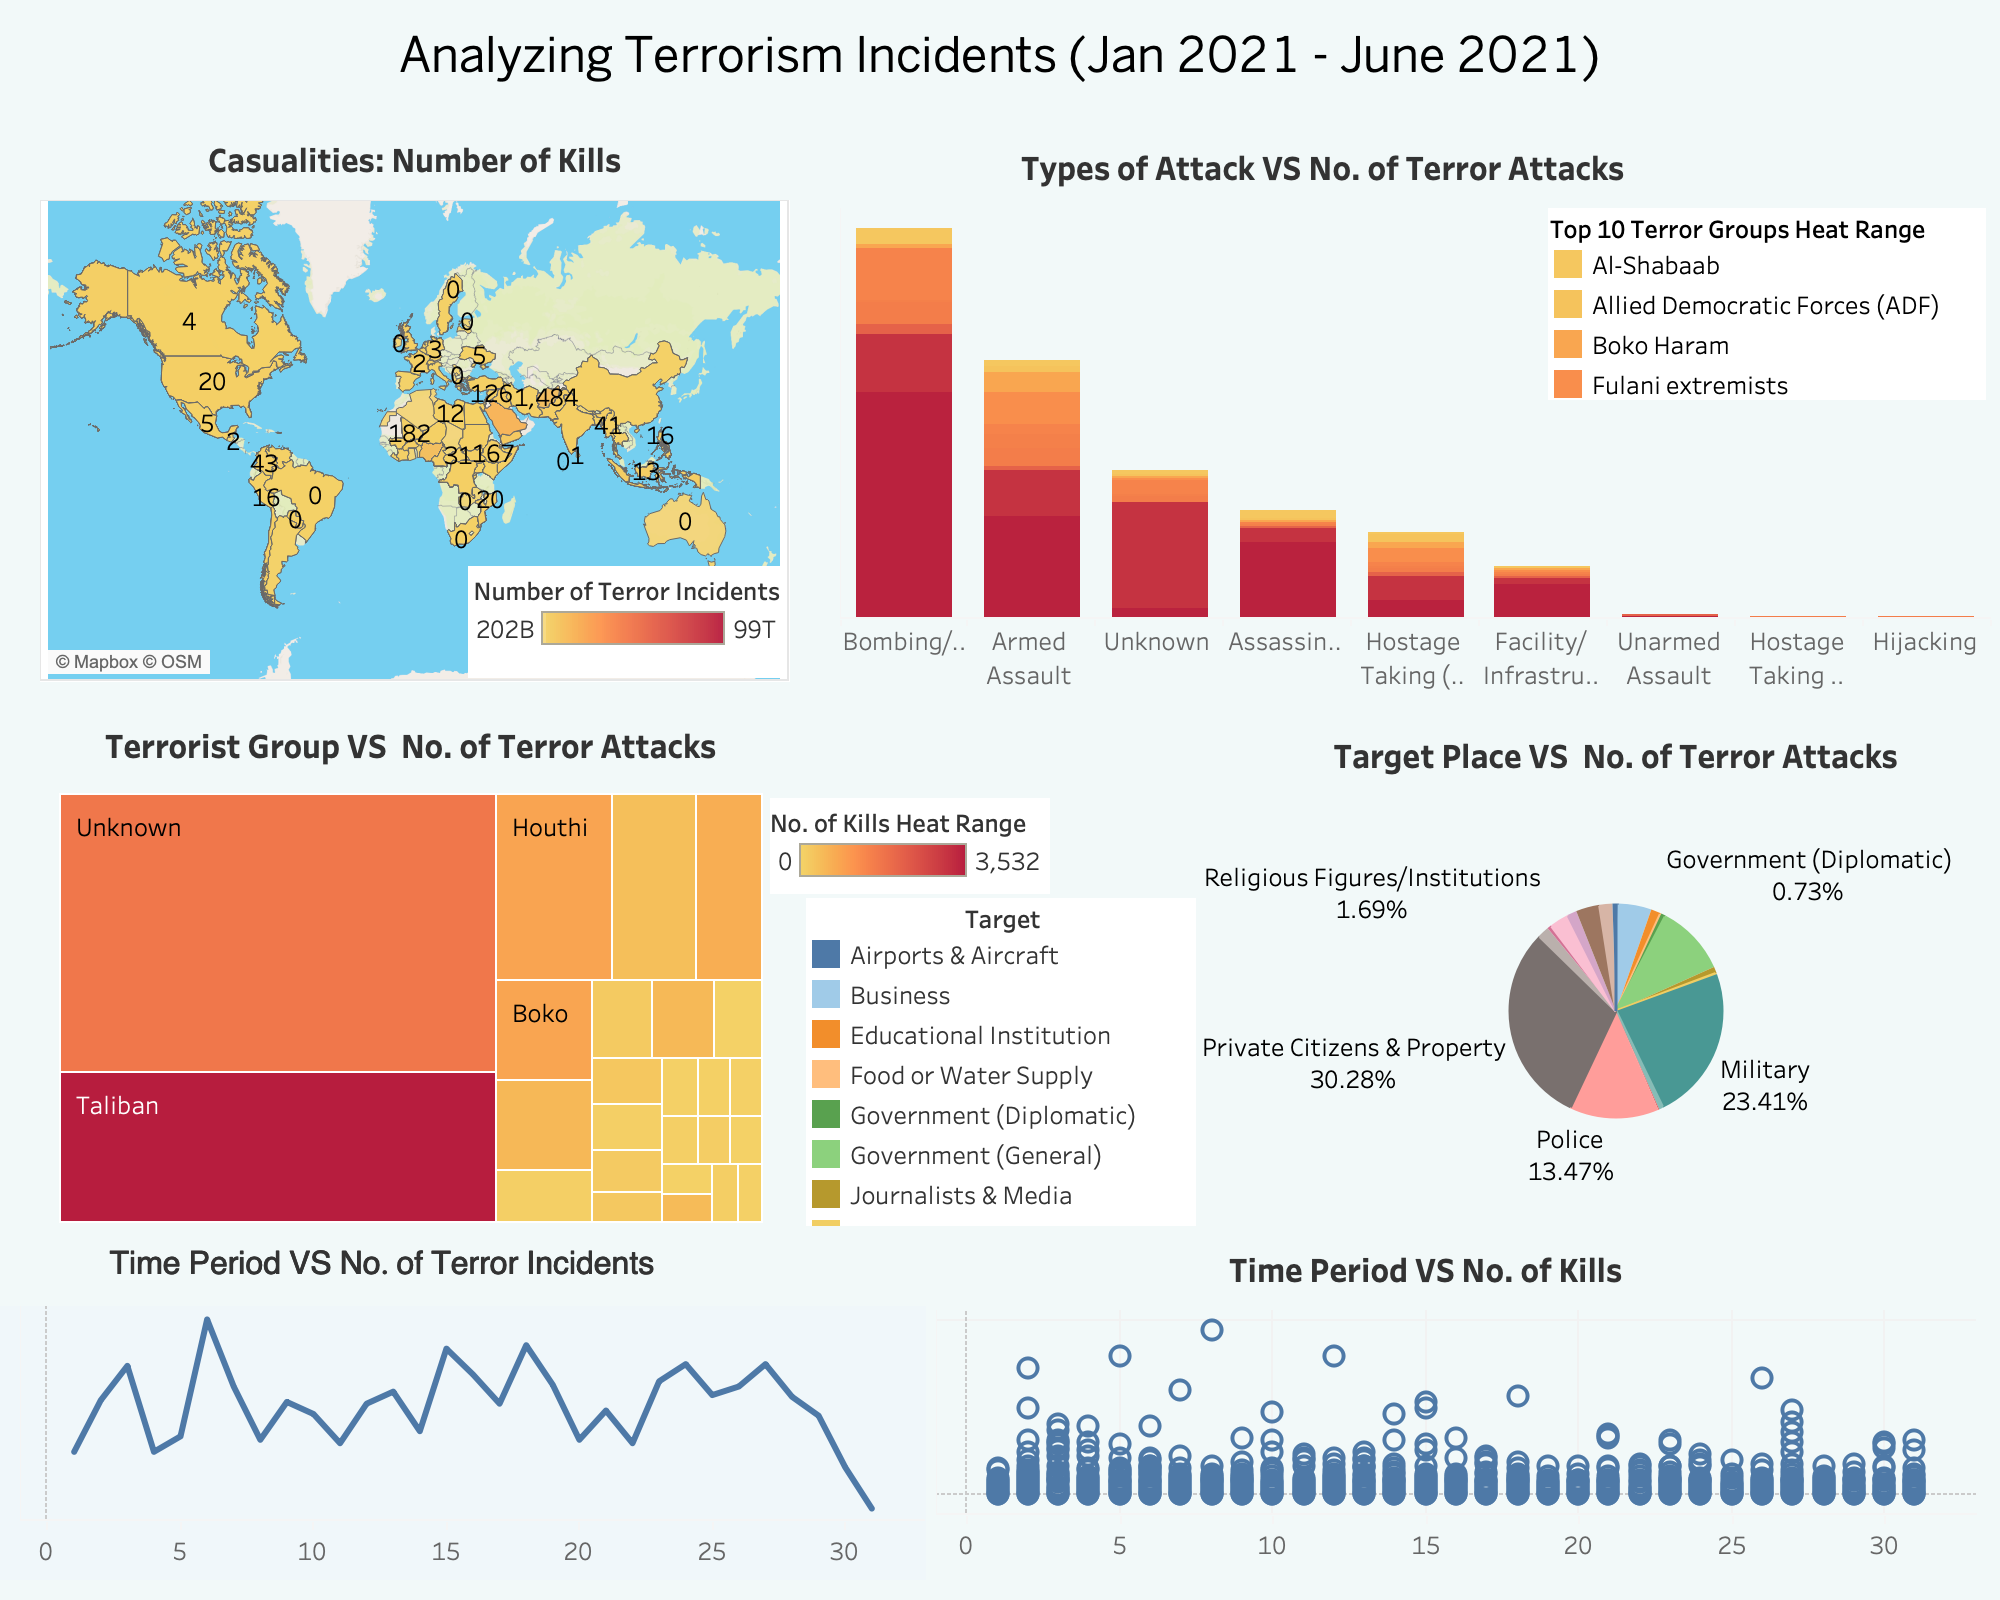

What the dashboard file says about the page in this screenshot:
{"tool":"tableau","page":{"name":"Analyzing Terrorism Incidents (Jan 2021 - June 2021)","canvas":[1000,800],"ordinal":0},"visuals":[{"type":"title","box":[8,8,984,39]},{"type":"worksheet","title":"Casualities: Number of Kills","mark":"Multipolygon","box":[20,63,375,278]},{"type":"worksheet","title":"Attack Type Analysis","mark":"Automatic","rows":["eventid"],"cols":["attacktype1_txt"],"box":[328,67,667,282]},{"type":"legend","title":"Attack Type Analysis","param":"[federated.121nz981fd0kcr1f9mes91ouoald].[none:gname:nk]","box":[774,104,219,96]},{"type":"legend","title":"Casualities: Number of Kills","param":"[federated.121nz981fd0kcr1f9mes91ouoald].[sum:eventid:qk]","box":[234,283,159,56]},{"type":"worksheet","title":"Perpetrator Analysis","mark":"Automatic","box":[26,356,371,260]},{"type":"legend","title":"Perpetrator Analysis","param":"[federated.121nz981fd0kcr1f9mes91ouoald].[sum:nkill:qk]","box":[385,399,140,48]},{"type":"legend","title":"Target Analysis","param":"[federated.121nz981fd0kcr1f9mes91ouoald].[none:targtype1_txt:nk]","box":[403,449,195,164]},{"type":"worksheet","title":"Casuality Analysis","mark":"Automatic","rows":["nkill"],"cols":["iday"],"box":[438,618,550,169]}]}

Visuals, with their boxes in screenshot pixels (x1, y1, x2, y2), scaled from the page's 1000x800 canvas onto the 2000x1600 screenshot:
title: [16, 16, 1984, 94]
"Casualities: Number of Kills" worksheet (Multipolygon marks): [40, 126, 790, 682]
"Attack Type Analysis" worksheet: [656, 134, 1990, 698]
"Attack Type Analysis" legend: [1548, 208, 1986, 400]
"Casualities: Number of Kills" legend: [468, 566, 786, 678]
"Perpetrator Analysis" worksheet: [52, 712, 794, 1232]
"Perpetrator Analysis" legend: [770, 798, 1050, 894]
"Target Analysis" legend: [806, 898, 1196, 1226]
"Casuality Analysis" worksheet: [876, 1236, 1976, 1574]
